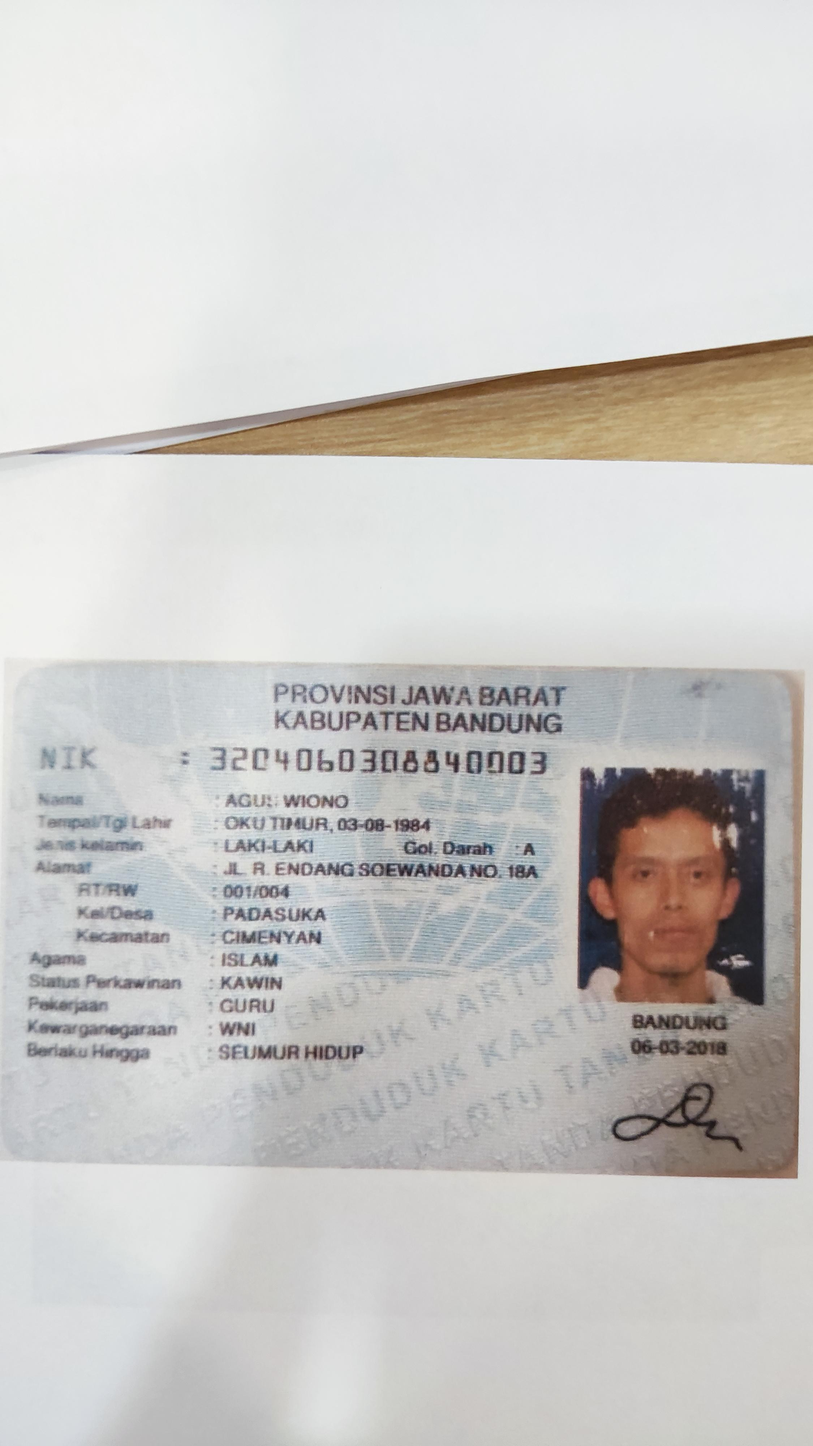ID-card: (0, 670, 808, 1179)
